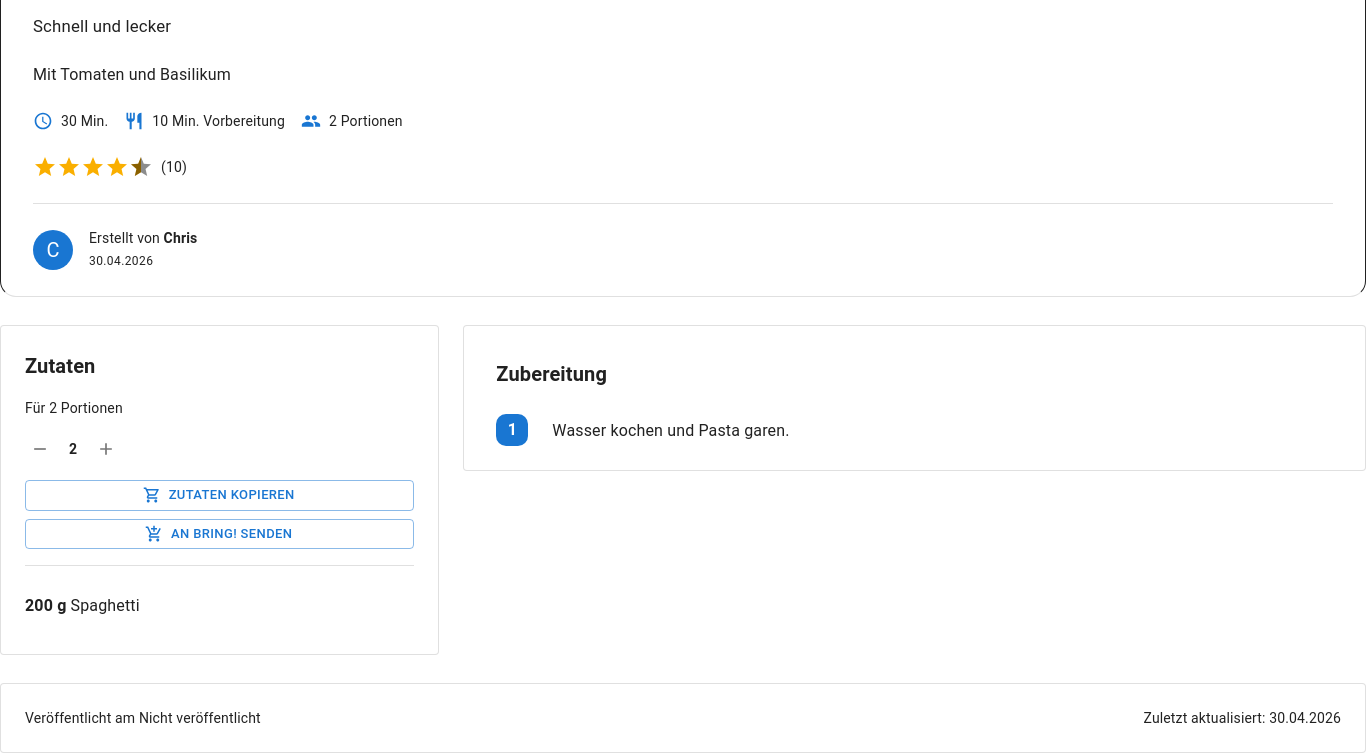
RecipeDetailPage › scales ingredient amounts when servings are adjusted
(page scrolled)
Check: the text "Für 2 Portionen" is shown, box [25,400,123,416]
Check: the text "200 g" is shown, box [25,596,71,615]
Click the button named "Portionen erhöhen" at (106, 449), box [91,434,121,464]
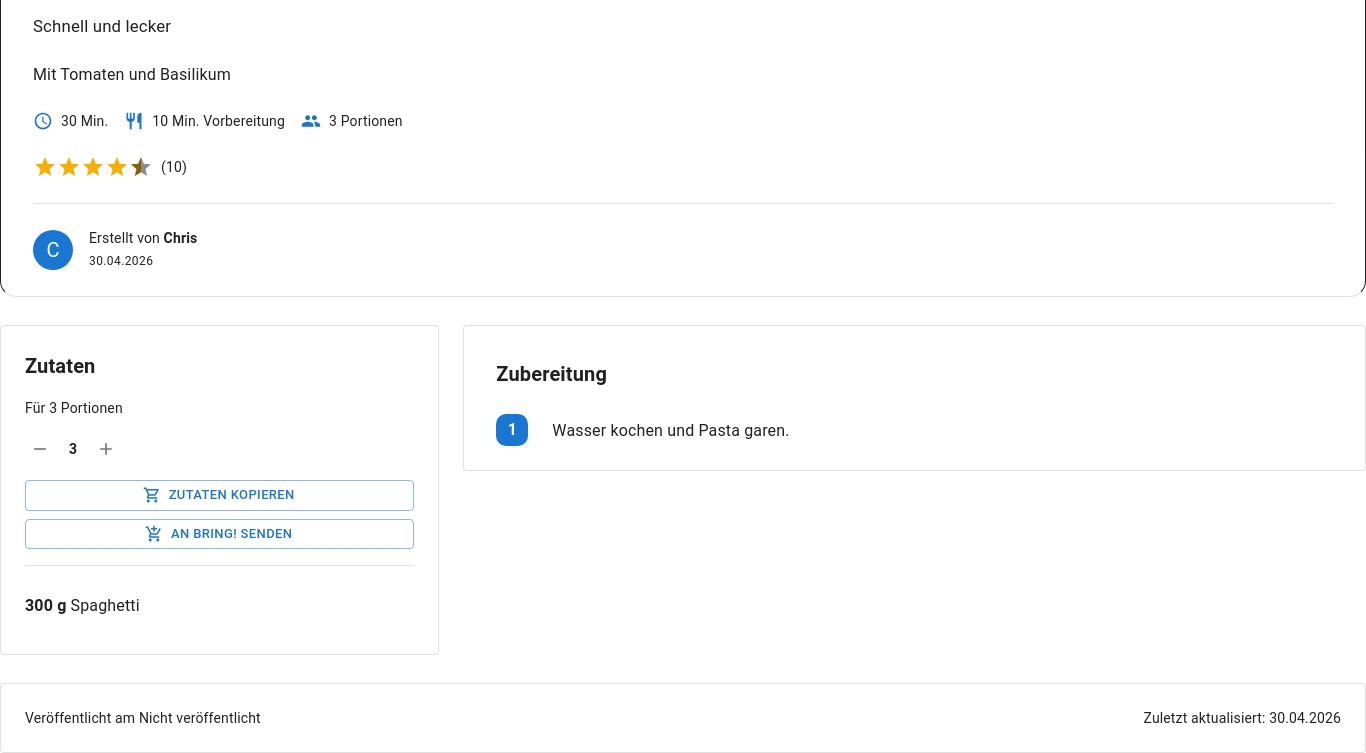
Check: the text "Für 3 Portionen" is shown, box [25,400,123,416]
Check: the text "300 g" is shown, box [25,596,71,615]
